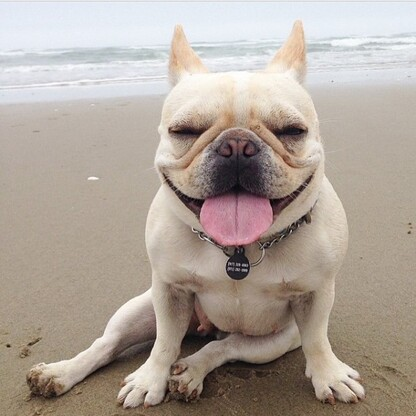bulldog: (155, 19, 339, 379)
